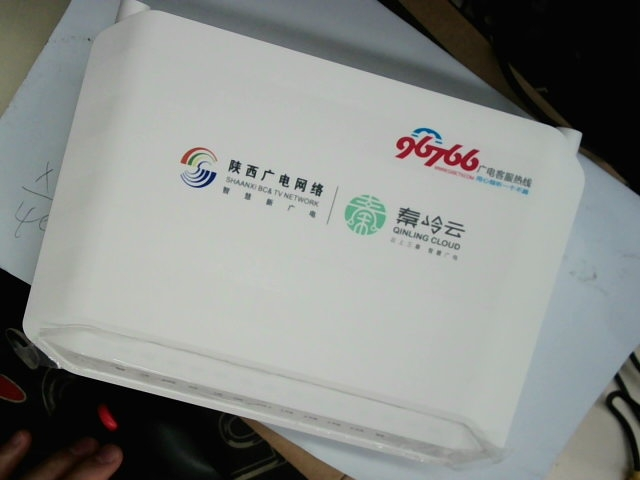AE_QinLing: (339, 186, 473, 264)
